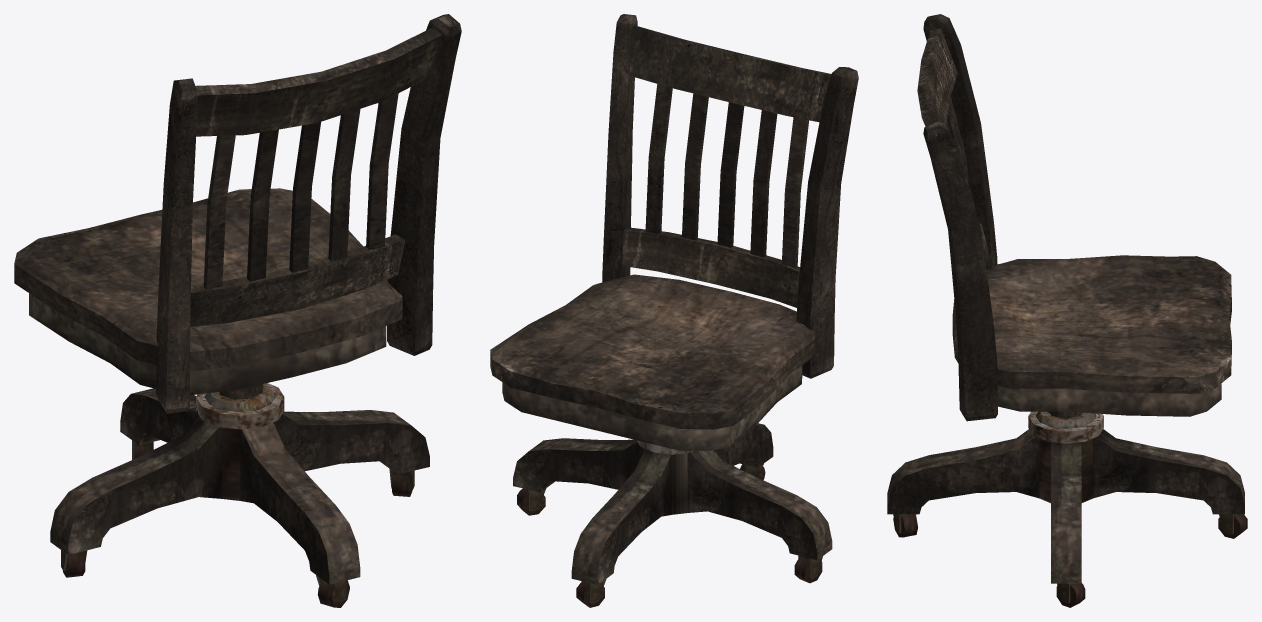
Rendered from Desk_Chair.obj.
The picture shows the model from 3 angles, left to right: view 1: azimuth 30°, elevation 25°; view 2: azimuth 150°, elevation 25°; view 3: azimuth 270°, elevation 25°; orthographic projection. The views are drawn at different scales.
Visible parts, largest first — view 1: desk_chair; view 2: desk_chair; view 3: desk_chair.
Boxes of the visible parts, x1=… form: desk_chair: x1=14, y1=14, x2=461, y2=607; desk_chair: x1=490, y1=14, x2=858, y2=607; desk_chair: x1=887, y1=14, x2=1247, y2=607.
Bounding box in the file's own units: 63.16 × 90.7 × 63.59.
Materials: 1 (1 with a texture image).
